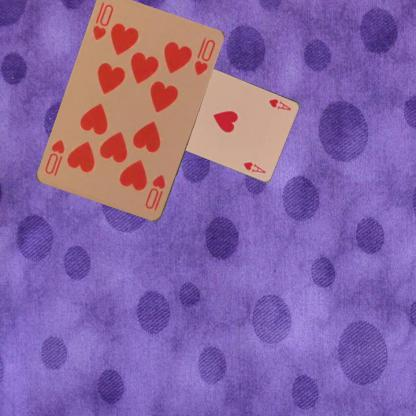10h: (142, 172, 167, 213), (90, 2, 115, 42)
Ah: (265, 96, 292, 112)
